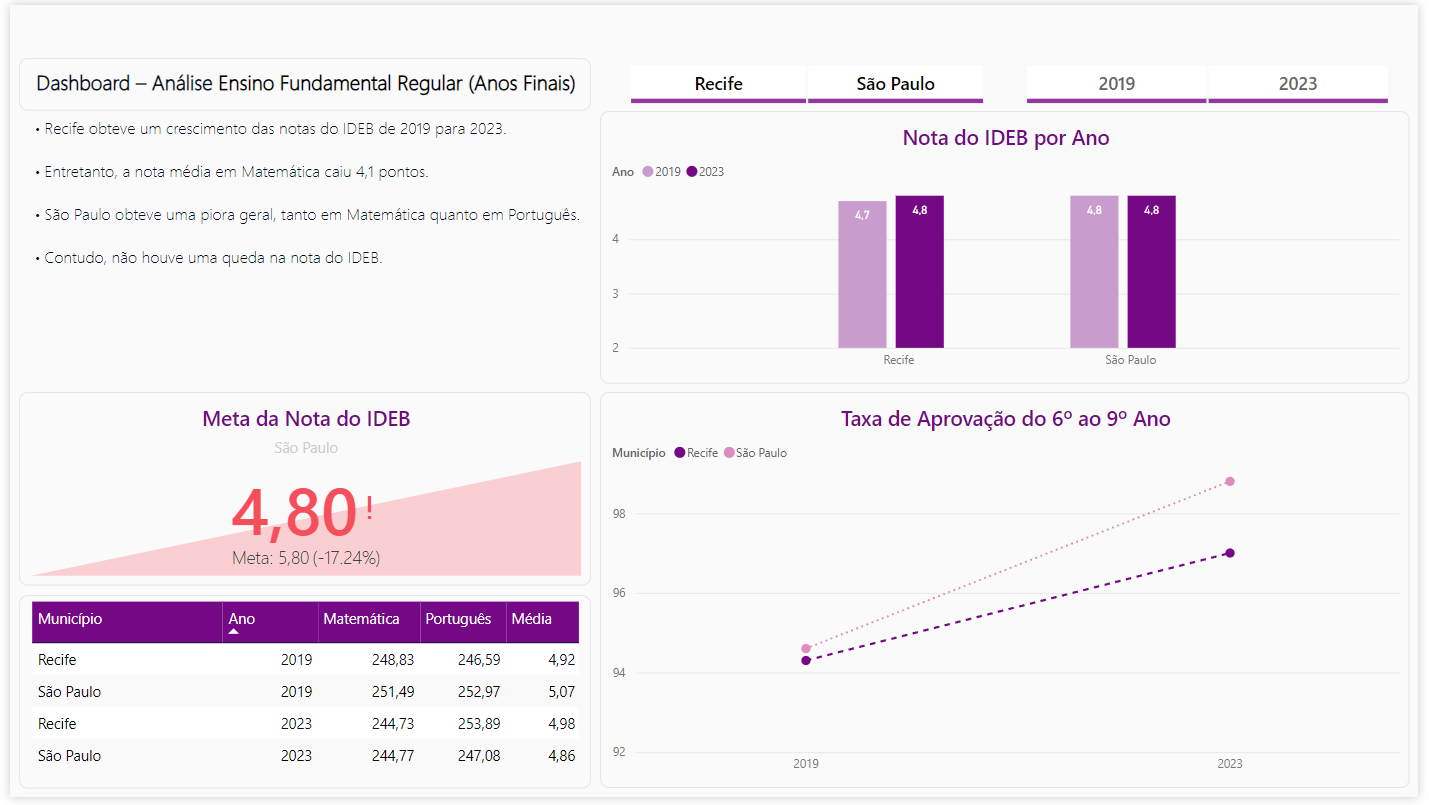

The page's visual inventory and layout, read from the dashboard file:
{"tool":"powerbi","page":{"name":"Página 1","canvas":[1280,720],"ordinal":0},"visuals":[{"type":"lineChart","title":"Taxa de Aprovação do 6º ao 9º Ano","fields":{"Category":["Tabela.ANO"],"Y":["Sum(Tabela.APROVACAO_6_A_9ANO)"],"Series":["Tabela.NO_MUNICIPIO"]},"box":[536,352,736,360],"z":0},{"type":"clusteredColumnChart","title":"Nota do IDEB por Ano","fields":{"Y":["Sum(Tabela.IDEB)"],"Category":["Tabela.NO_MUNICIPIO"],"Series":["Tabela.ANO"]},"box":[536,96,736,248],"z":1000},{"type":"kpi","title":"Meta da Nota do IDEB","fields":{"Indicator":["Sum(Tabela.IDEB)"],"TrendLine":["Tabela.METAS_CICLO_1"],"Goal":["Sum(Tabela.METAS_CICLO_1)"]},"box":[8,352,520,176],"z":2000},{"type":"slicer","fields":{"Values":["Tabela.ANO"]},"box":[904,48,368,48],"z":3000},{"type":"slicer","fields":{"Values":["Tabela.NO_MUNICIPIO"]},"box":[544,48,360,48],"z":4000},{"type":"tableEx","fields":{"Values":["Tabela.NO_MUNICIPIO","Tabela.ANO","Tabela.MATEMATICA","Tabela.PORTUGUES","Tabela.MEDIA"]},"box":[8,536,520,176],"z":5000},{"type":"textbox","box":[8,48,520,48],"z":6000},{"type":"textbox","box":[8,96,520,248],"z":6001}]}

Visuals, with their boxes in screenshot pixels (x1, y1, x2, y2), scaled from the page's 1280x720 canvas onto the 1429x805 screenshot:
"Taxa de Aprovação do 6º ao 9º Ano" lineChart: select_region(598, 394, 1420, 796)
"Nota do IDEB por Ano" clusteredColumnChart: select_region(598, 107, 1420, 385)
"Meta da Nota do IDEB" kpi: select_region(9, 394, 589, 590)
slicer - Tabela.ANO: select_region(1009, 54, 1420, 107)
slicer - Tabela.NO_MUNICIPIO: select_region(607, 54, 1009, 107)
tableEx - Tabela.NO_MUNICIPIO x Tabela.ANO: select_region(9, 599, 589, 796)
textbox: select_region(9, 54, 589, 107)
textbox: select_region(9, 107, 589, 385)
